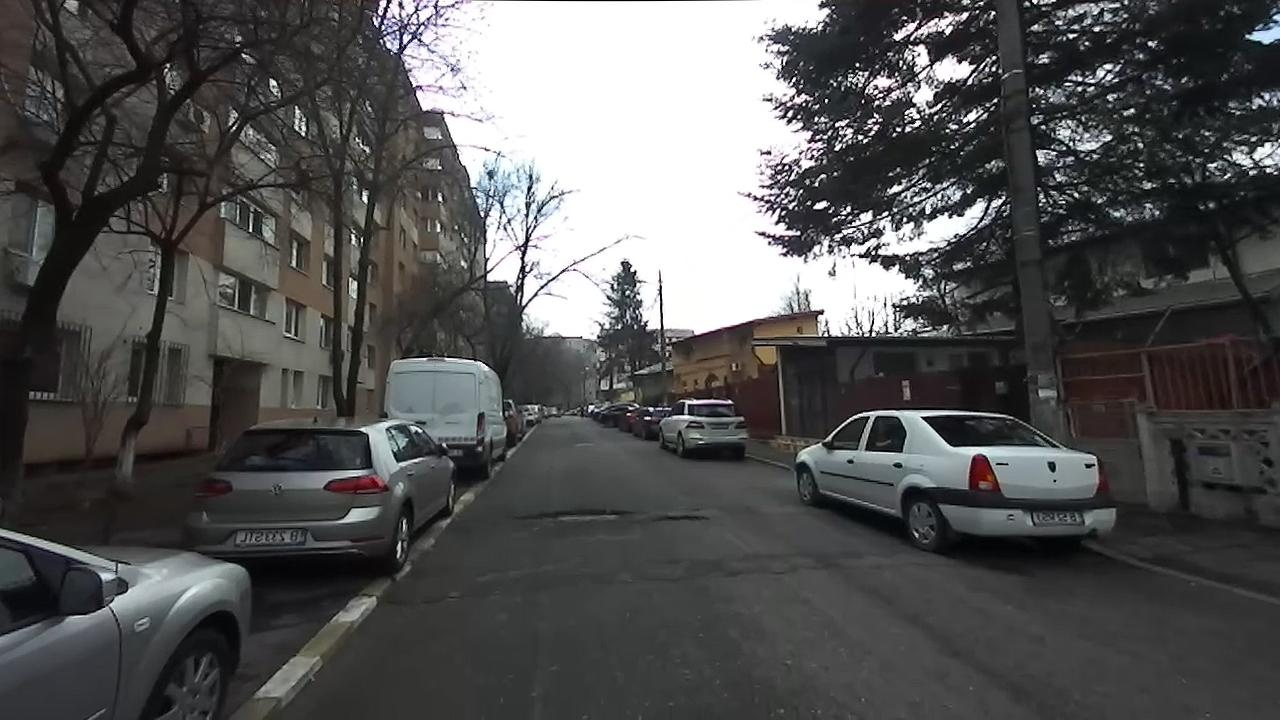pothole: (510, 506, 635, 526), (648, 511, 711, 524)
